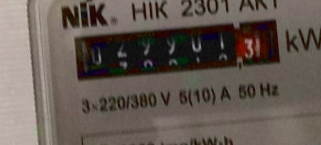0: (188, 29, 205, 55), (88, 44, 105, 67)
1: (215, 27, 229, 52)
2: (113, 36, 130, 60)
3: (241, 36, 258, 61)
9: (164, 33, 178, 57), (139, 34, 153, 56)
screen: (65, 11, 291, 92)
